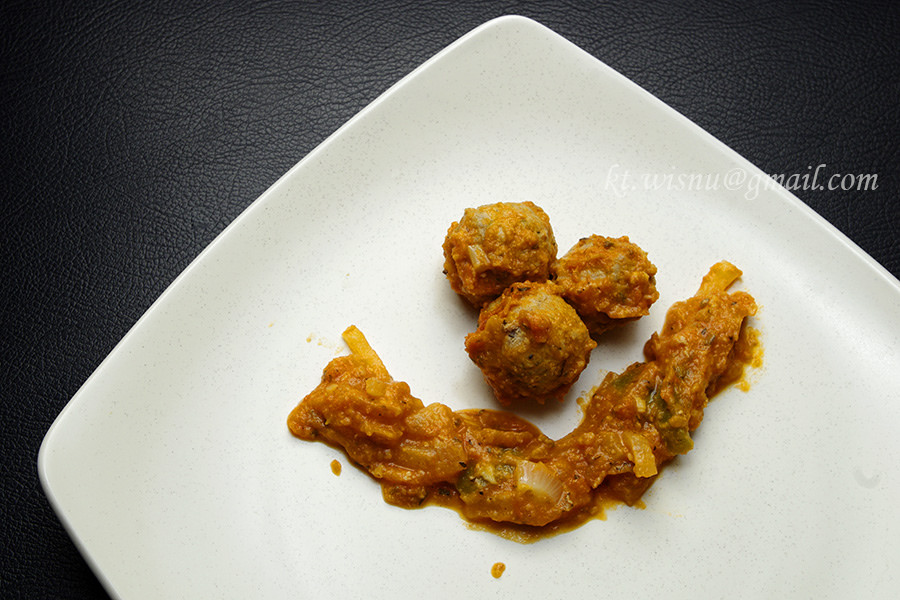meatballs: (445, 198, 648, 377)
